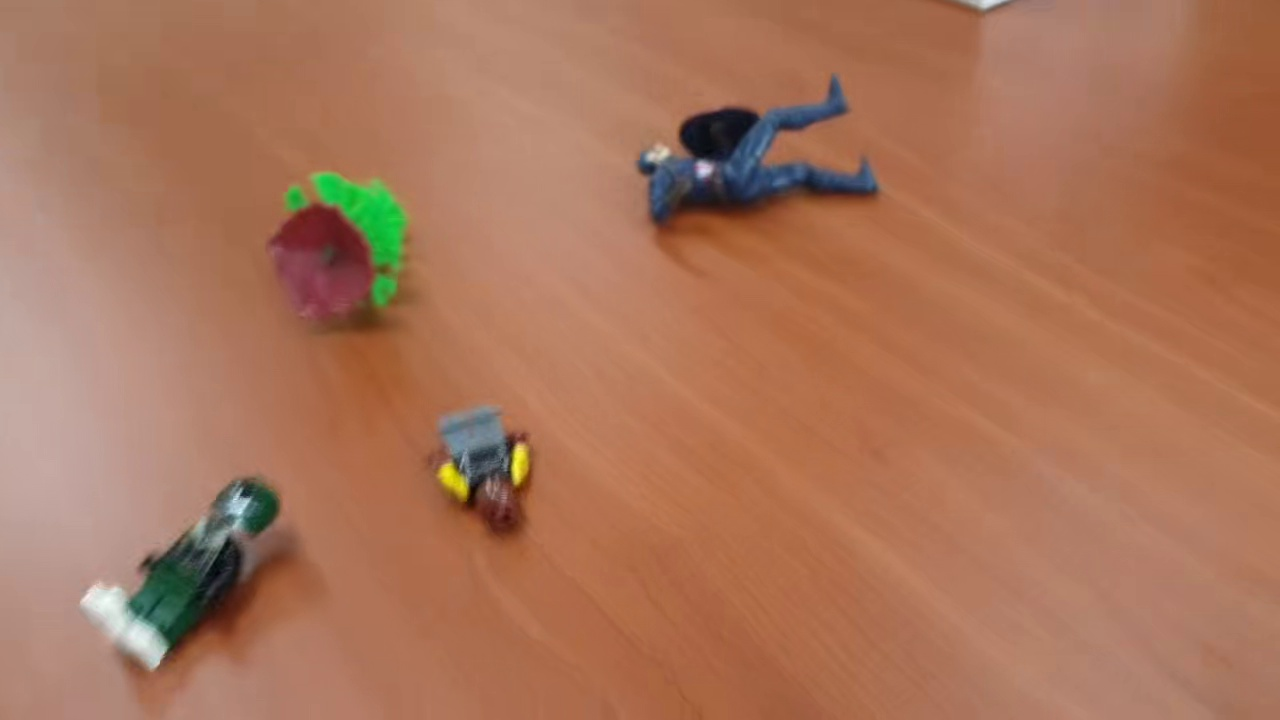people: (81, 474, 275, 677), (633, 73, 879, 226), (428, 400, 535, 536)
tree: (269, 168, 413, 326)
